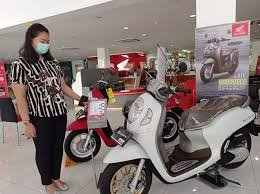motor: (105, 82, 257, 191)
